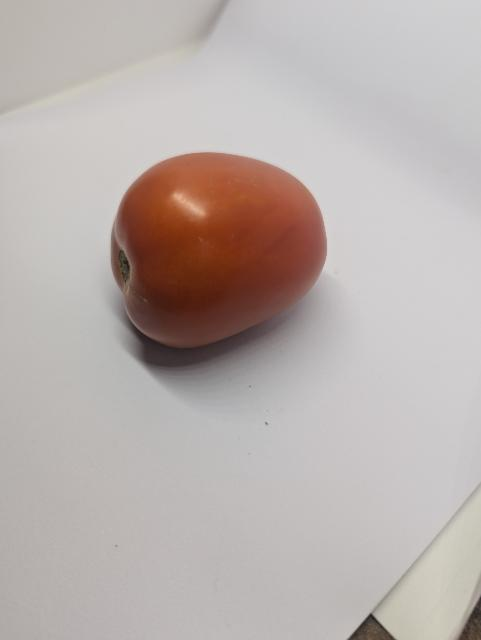red: (100, 143, 339, 357)
